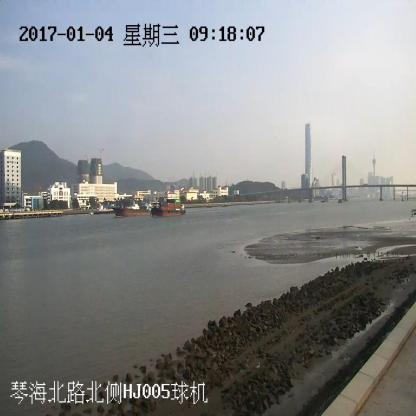Container Ship: (150, 198, 184, 217)
